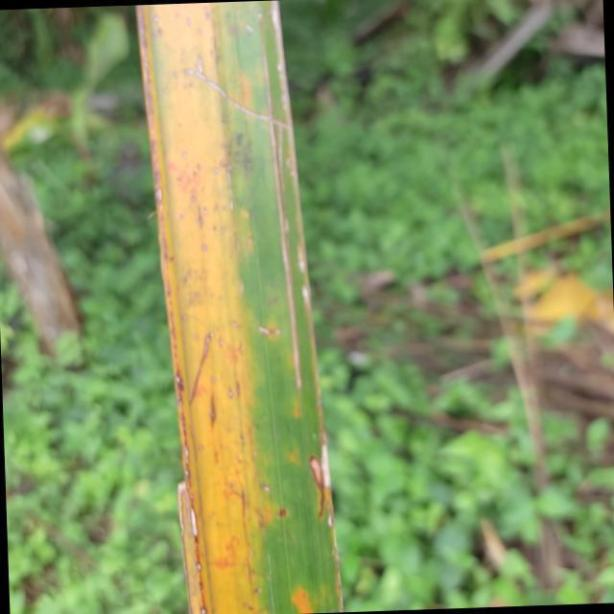Megnesium: (136, 0, 344, 614)
